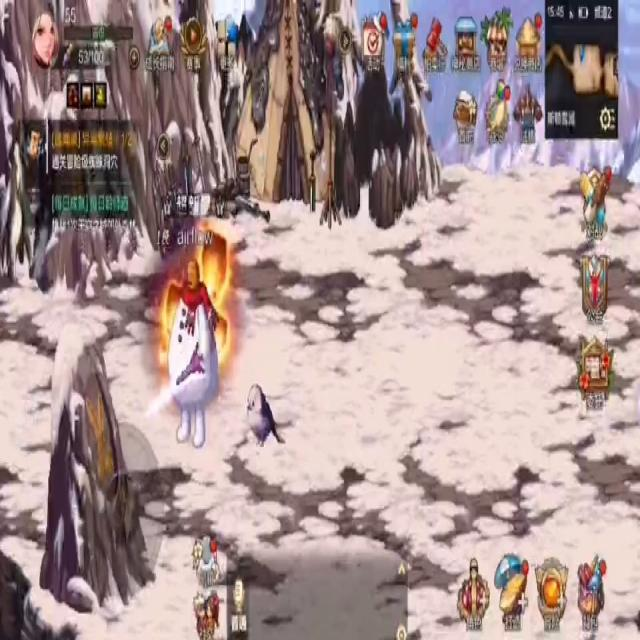player: (167, 253, 219, 449)
